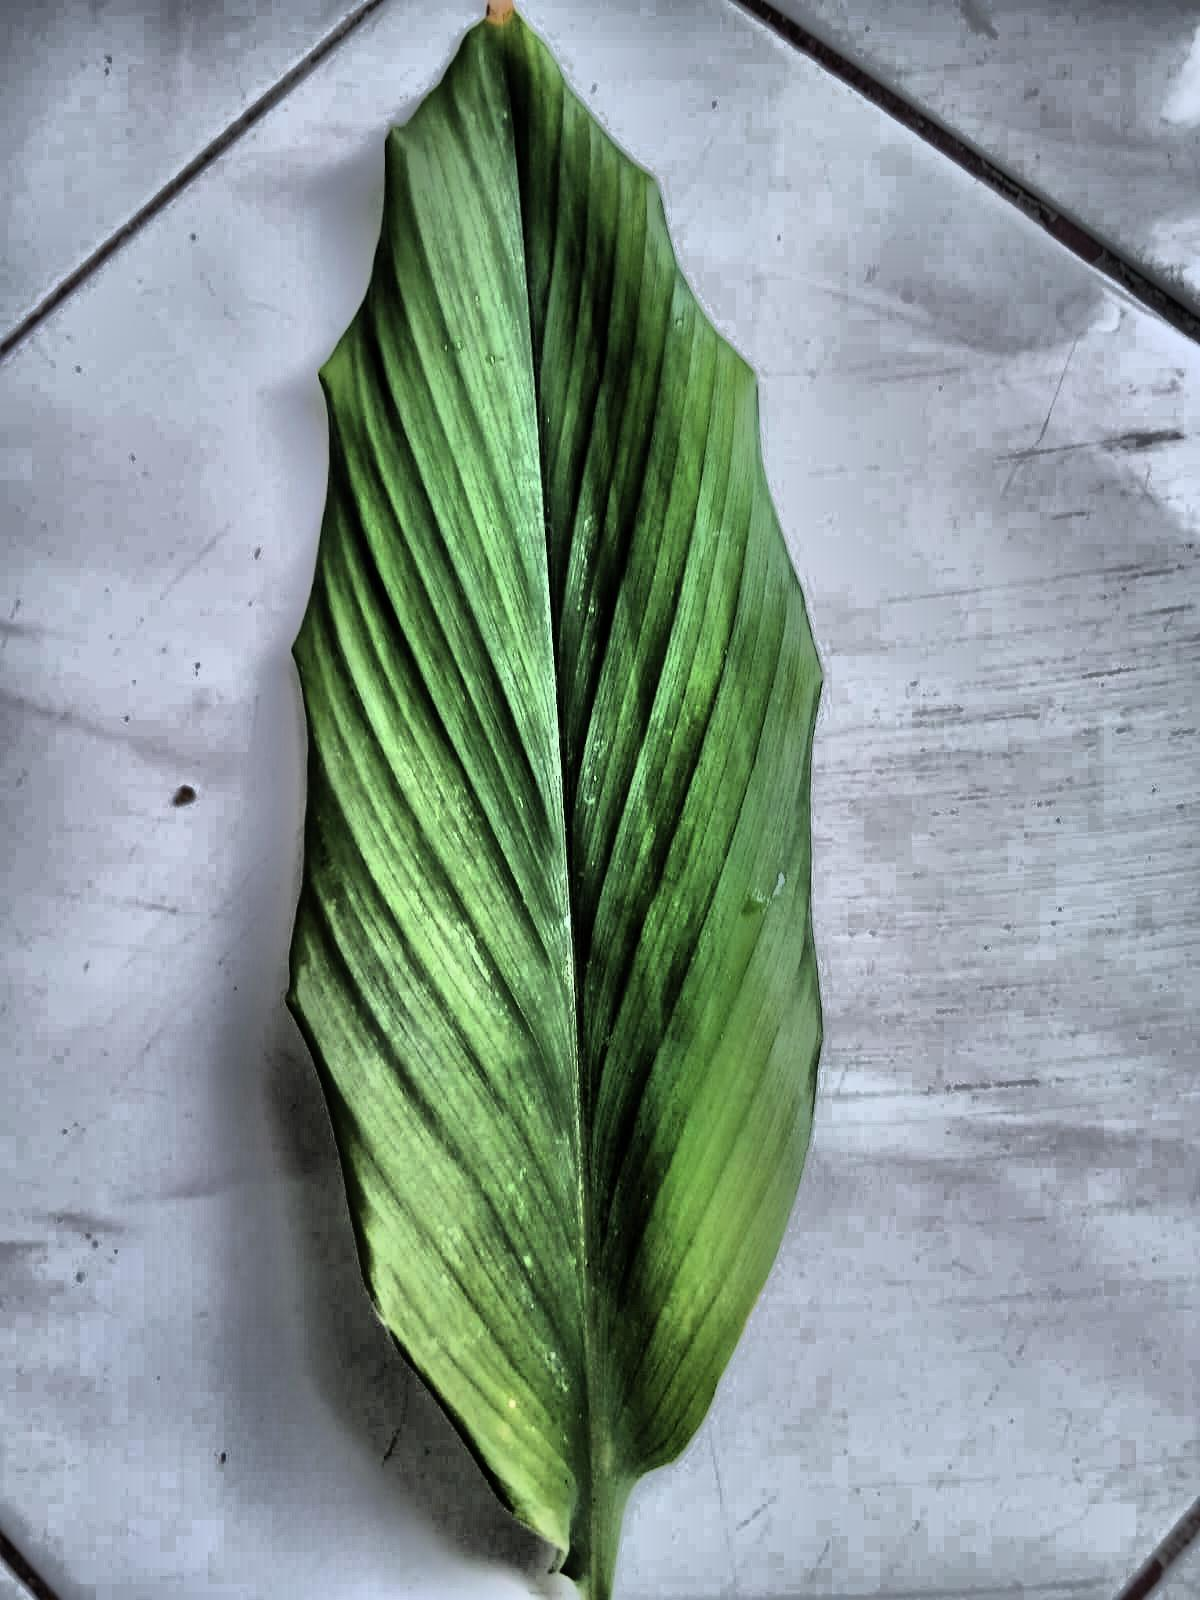daun kunyit: (289, 11, 821, 1599)
